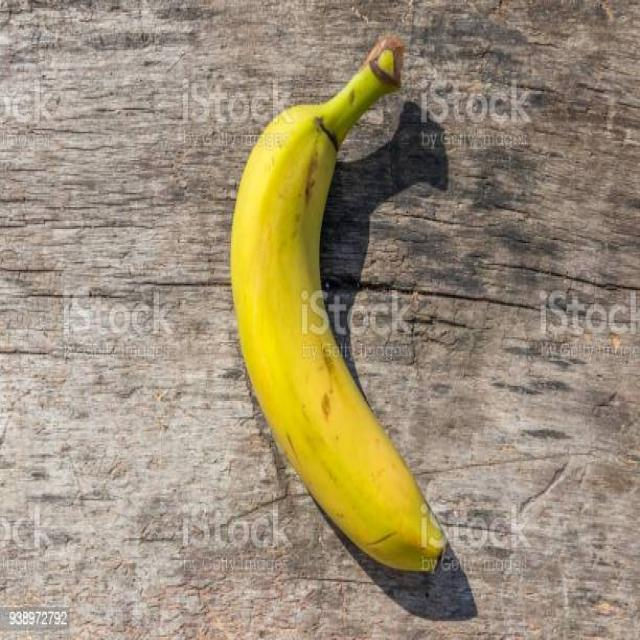banana: (228, 22, 454, 583)
